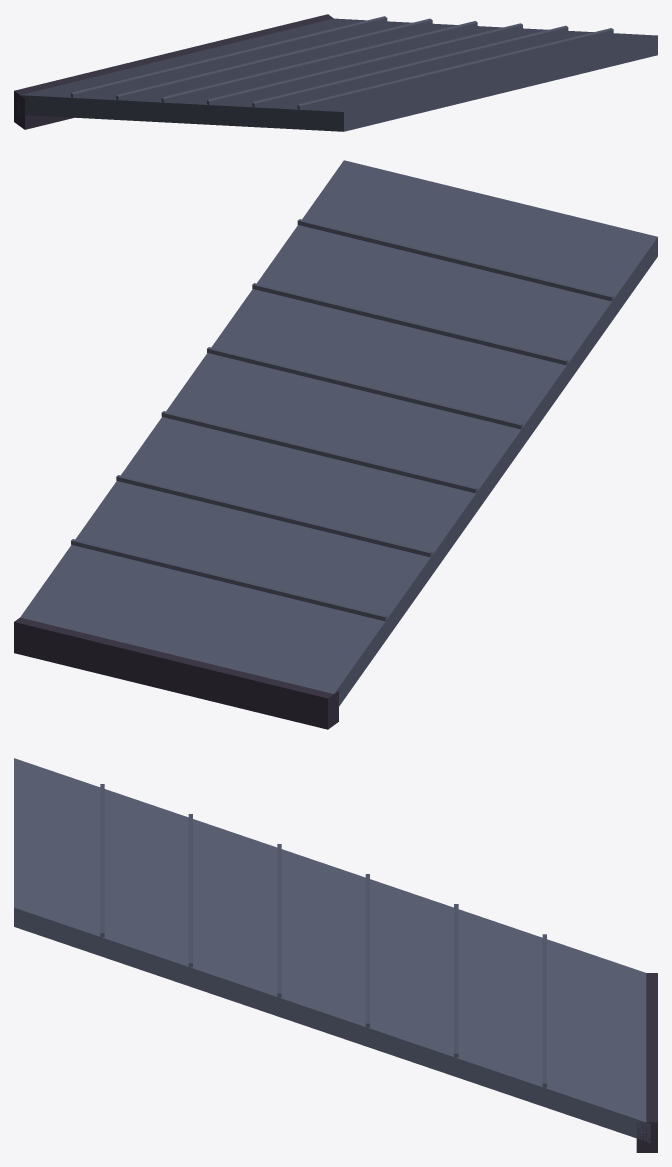
The model's file is SM_Roof_Slope_2m.fbx.
The picture shows the model from 3 angles, top to bottom: view 1: azimuth 30°, elevation 25°; view 2: azimuth 150°, elevation 25°; view 3: azimuth 270°, elevation 25°; orthographic projection. The views are drawn at different scales.
Visible parts, largest first — view 1: SM_Roof_Slope_2m; view 2: SM_Roof_Slope_2m; view 3: SM_Roof_Slope_2m.
Boxes of the visible parts, x1=… form: SM_Roof_Slope_2m: x1=14, y1=14, x2=657, y2=131; SM_Roof_Slope_2m: x1=14, y1=160, x2=657, y2=729; SM_Roof_Slope_2m: x1=14, y1=758, x2=657, y2=1152.
Bounding box in the file's own units: 2 × 3.64 × 1.53.
